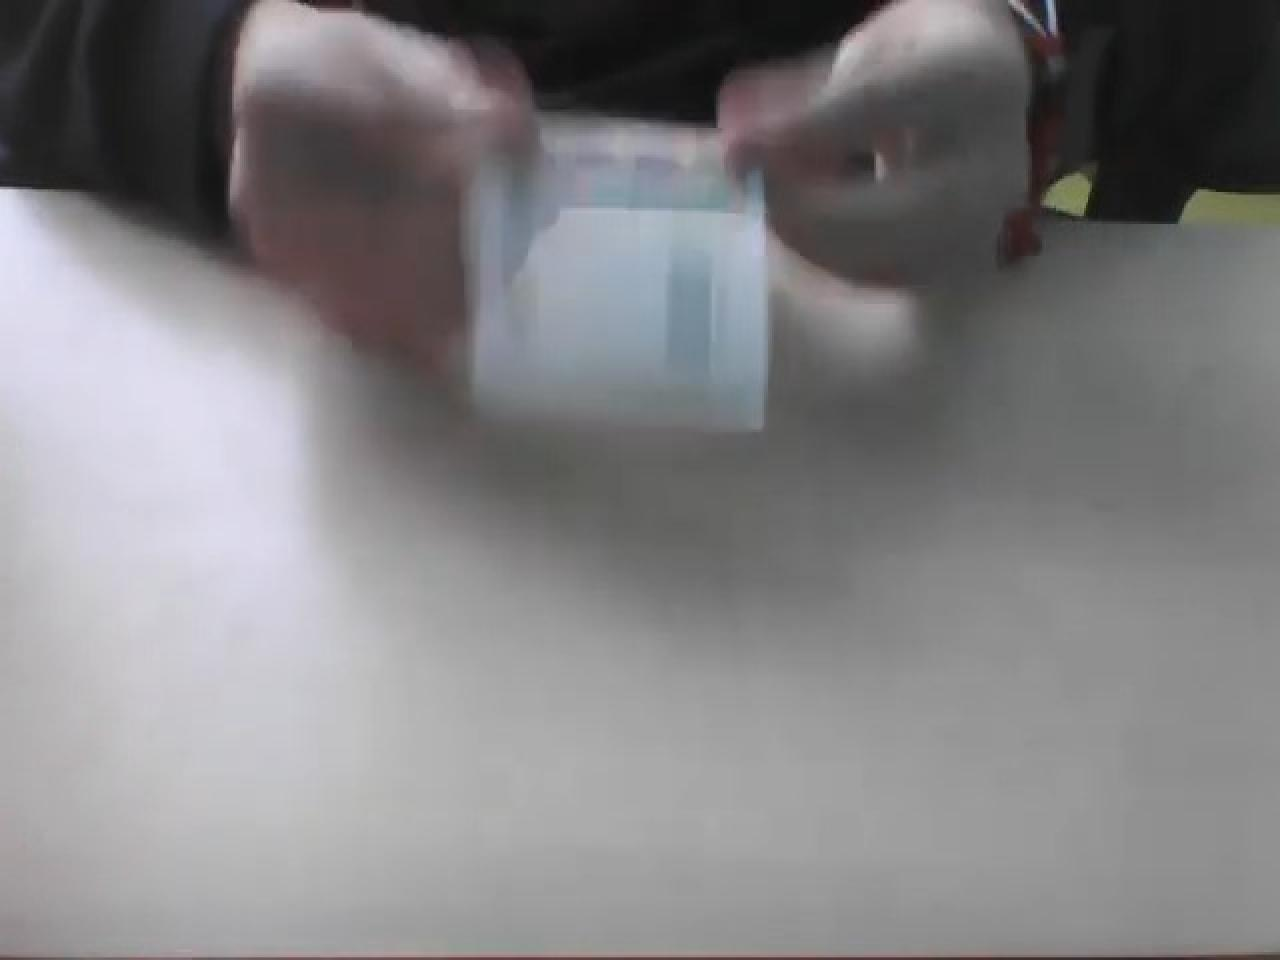100leva: (456, 107, 772, 441)
